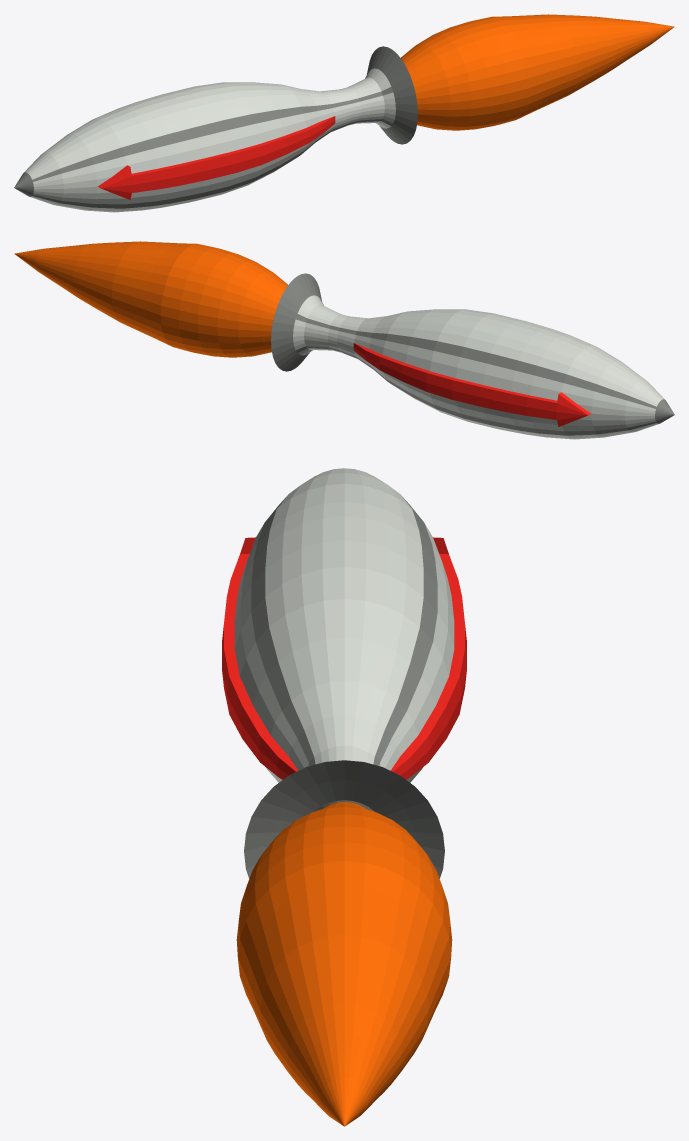
The model's file is newsuperspeed.fbx.
3 views of the same model, one above another, from view 1: azimuth 30°, elevation 25°; view 2: azimuth 150°, elevation 25°; view 3: azimuth 270°, elevation 25° (orthographic). The views are drawn at different scales.
Parts seen in each view (by area): view 1: Circle#2; view 2: Circle#2; view 3: Circle#2.
Part boxes in pixels (x1,y1,x2,y2): Circle#2: (14,14,674,212); Circle#2: (14,241,674,439); Circle#2: (222,468,466,1126).
Size of the model in its own units: 1.45 by 0.2128 by 0.2326.
2 materials, 2 textured.
